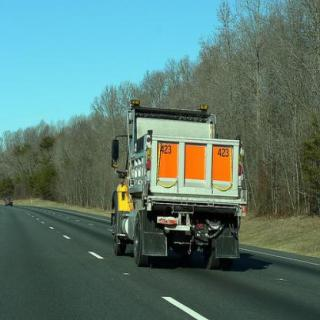Normal_vehicle: (98, 98, 254, 274)
